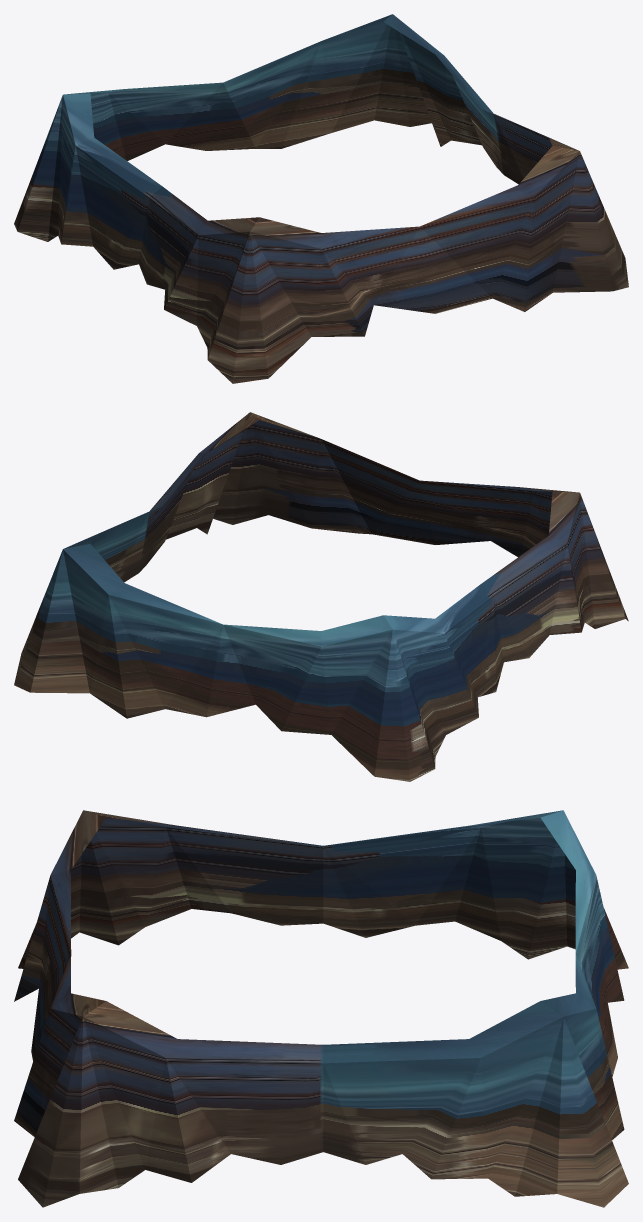
File: effect_models_02.FBX
3 renders of one model, top to bottom at view 1: azimuth 30°, elevation 25°; view 2: azimuth 150°, elevation 25°; view 3: azimuth 270°, elevation 25°, orthographic. The views are drawn at different scales.
Parts seen in each view (by area): view 1: Object001; view 2: Object001; view 3: Object001.
Part boxes in pixels (<box>): Object001: <box>14,14,628,383</box>; Object001: <box>14,412,628,781</box>; Object001: <box>14,810,628,1207</box>.
Bounding box in the file's own units: 4.62 × 1.44 × 4.59.
